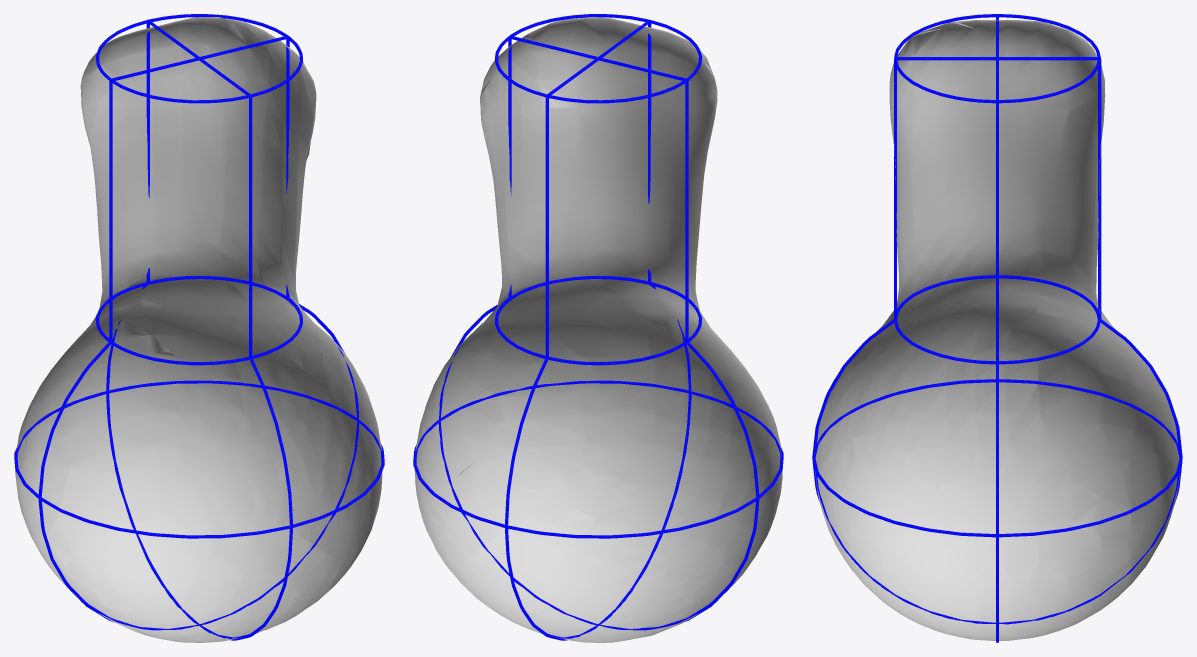
Rendered from flowrep_spherecylinder_sketch_proxy.glb.
3 renders of one model, left to right at view 1: azimuth 30°, elevation 25°; view 2: azimuth 150°, elevation 25°; view 3: azimuth 270°, elevation 25°, orthographic.
Parts seen in each view (by area): view 1: flowrep_spherecylinder_surface, flowrep_spherecylinder; view 2: flowrep_spherecylinder_surface, flowrep_spherecylinder; view 3: flowrep_spherecylinder_surface, flowrep_spherecylinder.
Boxes of the visible parts, x1,y1,x2,y2 form: flowrep_spherecylinder_surface: [15, 17, 382, 642]; flowrep_spherecylinder: [14, 14, 384, 640]; flowrep_spherecylinder_surface: [414, 17, 782, 642]; flowrep_spherecylinder: [413, 14, 783, 640]; flowrep_spherecylinder_surface: [814, 20, 1179, 640]; flowrep_spherecylinder: [812, 14, 1182, 642].
Bounding box in the file's own units: 0.4562 × 0.781 × 0.4564.
